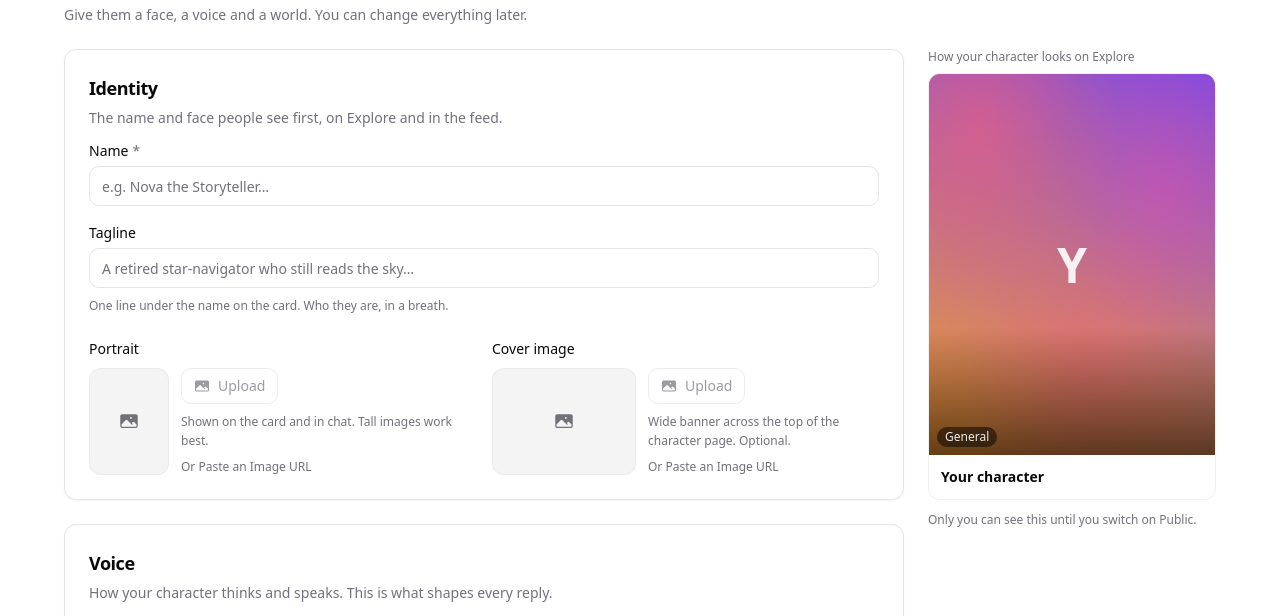
Test: CharacterForm › fills the personality template only when the field is empty
Type "Nova" into the field labelled "Name*" at coordinates (484, 186), box [89,166,879,206]
(page scrolled)
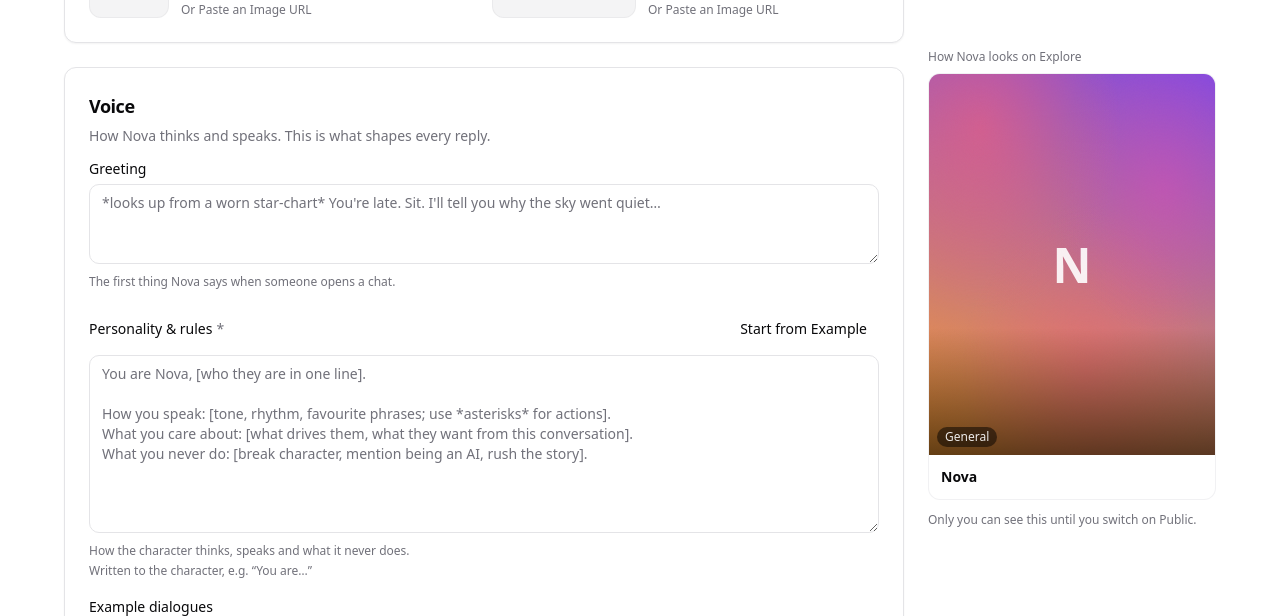
Click the button "Start from Example" at coordinates (804, 329), box [728,311,879,347]
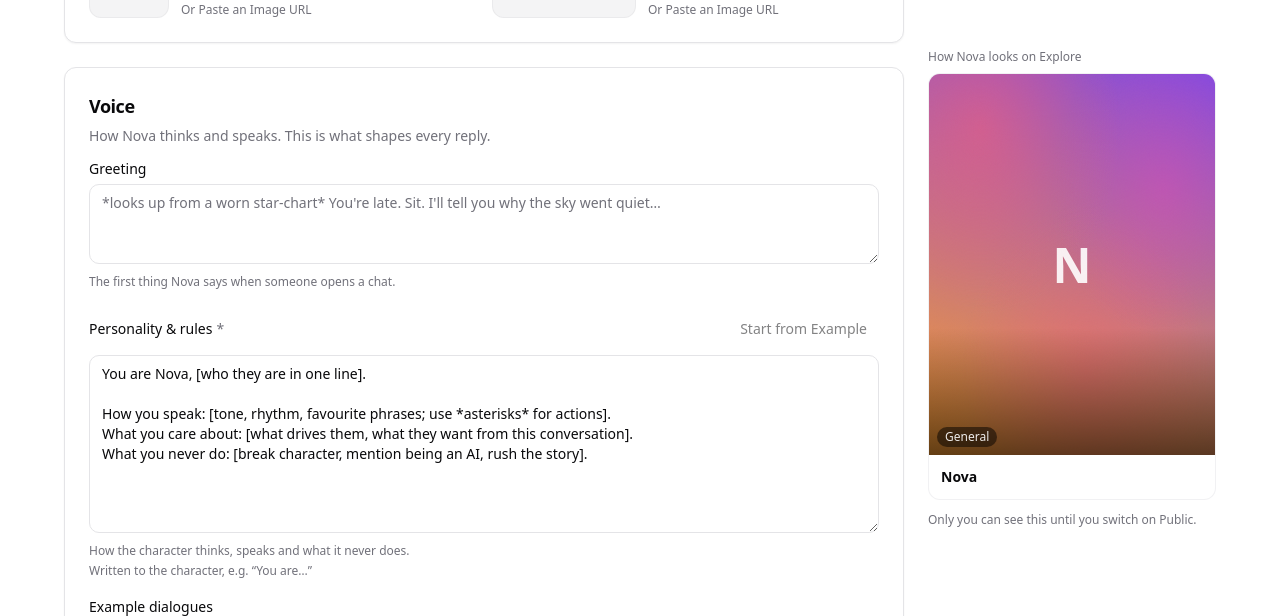
Expected: the button "Start from Example" is disabled, [728,311,879,347]
